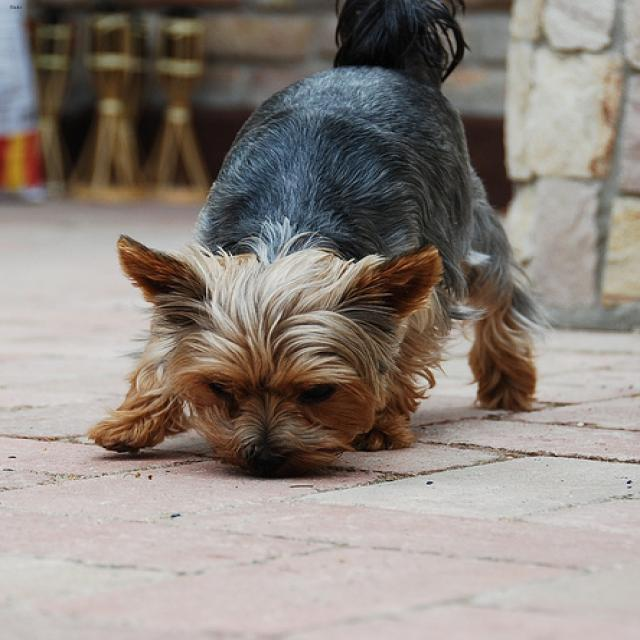dog-yorkshire_terrier: (72, 1, 558, 489)
